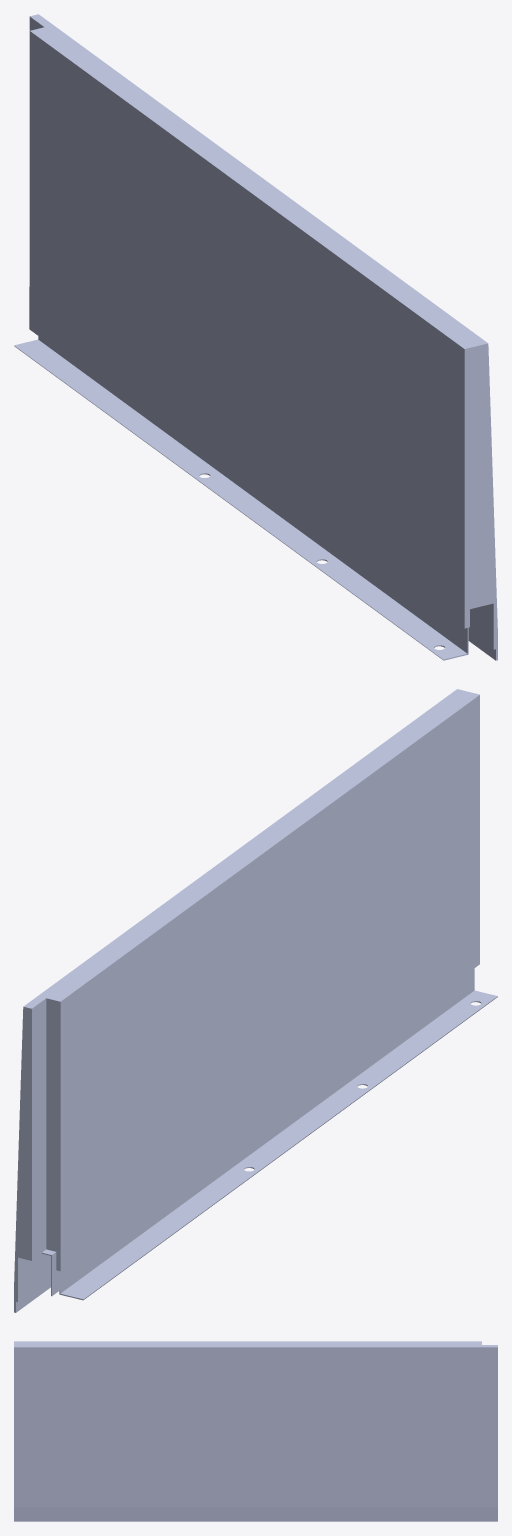
File: mv-kava-E500-m.glb
The picture shows the model from 3 angles, top to bottom: view 1: azimuth 30°, elevation 25°; view 2: azimuth 150°, elevation 25°; view 3: azimuth 270°, elevation 25°; orthographic projection. The views are drawn at different scales.
Visible parts, largest first — view 1: 47877297; view 2: 47877297; view 3: 47877297.
Part boxes in pixels (bbox=[...]): 47877297: bbox=[14, 14, 497, 660]; 47877297: bbox=[14, 689, 497, 1312]; 47877297: bbox=[14, 1341, 497, 1521].
Size of the model in its own units: 0.0335 by 0.192 by 0.4902.
